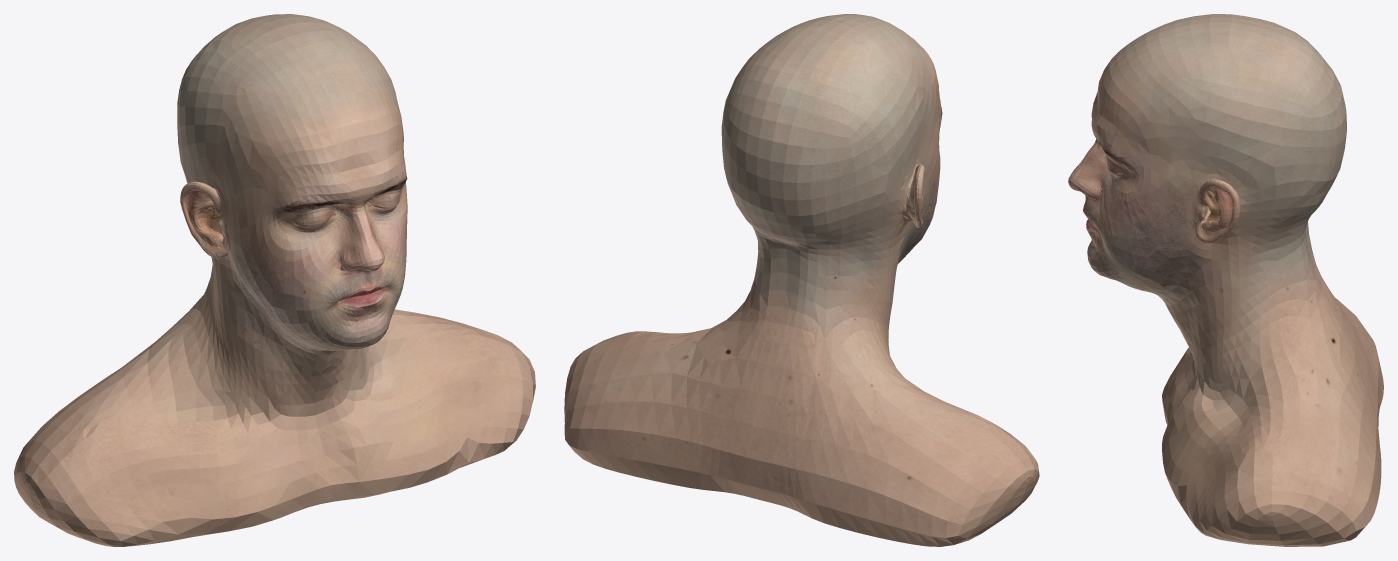
The model's file is lee-perry-smith-head-scan.obj.
3 renders of one model, left to right at view 1: azimuth 30°, elevation 25°; view 2: azimuth 150°, elevation 25°; view 3: azimuth 270°, elevation 25°, orthographic. The views are drawn at different scales.
Parts seen in each view (by area): view 1: Infinite; view 2: Infinite; view 3: Infinite.
Boxes of the visible parts, x1,y1,x2,y2 form: Infinite: (14, 14, 535, 546); Infinite: (564, 14, 1039, 546); Infinite: (1068, 14, 1383, 546).
Size of what is drawn, in the model's own units: 0.4533 by 0.4211 by 0.2746.
1 material, 1 textured.
